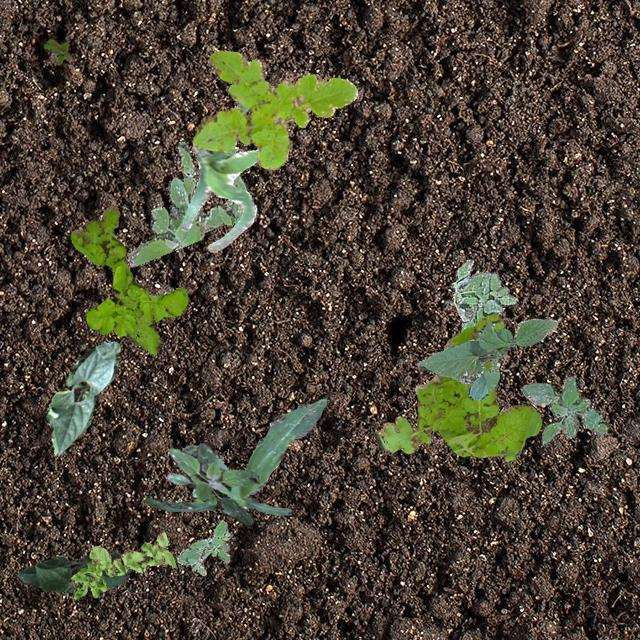crop: (144, 398, 326, 514), (416, 317, 556, 398), (181, 104, 257, 252), (44, 340, 119, 456), (15, 552, 130, 592)
weed: (372, 312, 540, 459), (190, 50, 357, 168), (70, 206, 186, 354), (127, 140, 245, 266), (166, 442, 258, 524), (69, 530, 175, 598), (520, 376, 606, 442), (452, 258, 516, 332), (177, 518, 230, 574), (42, 38, 70, 64)
